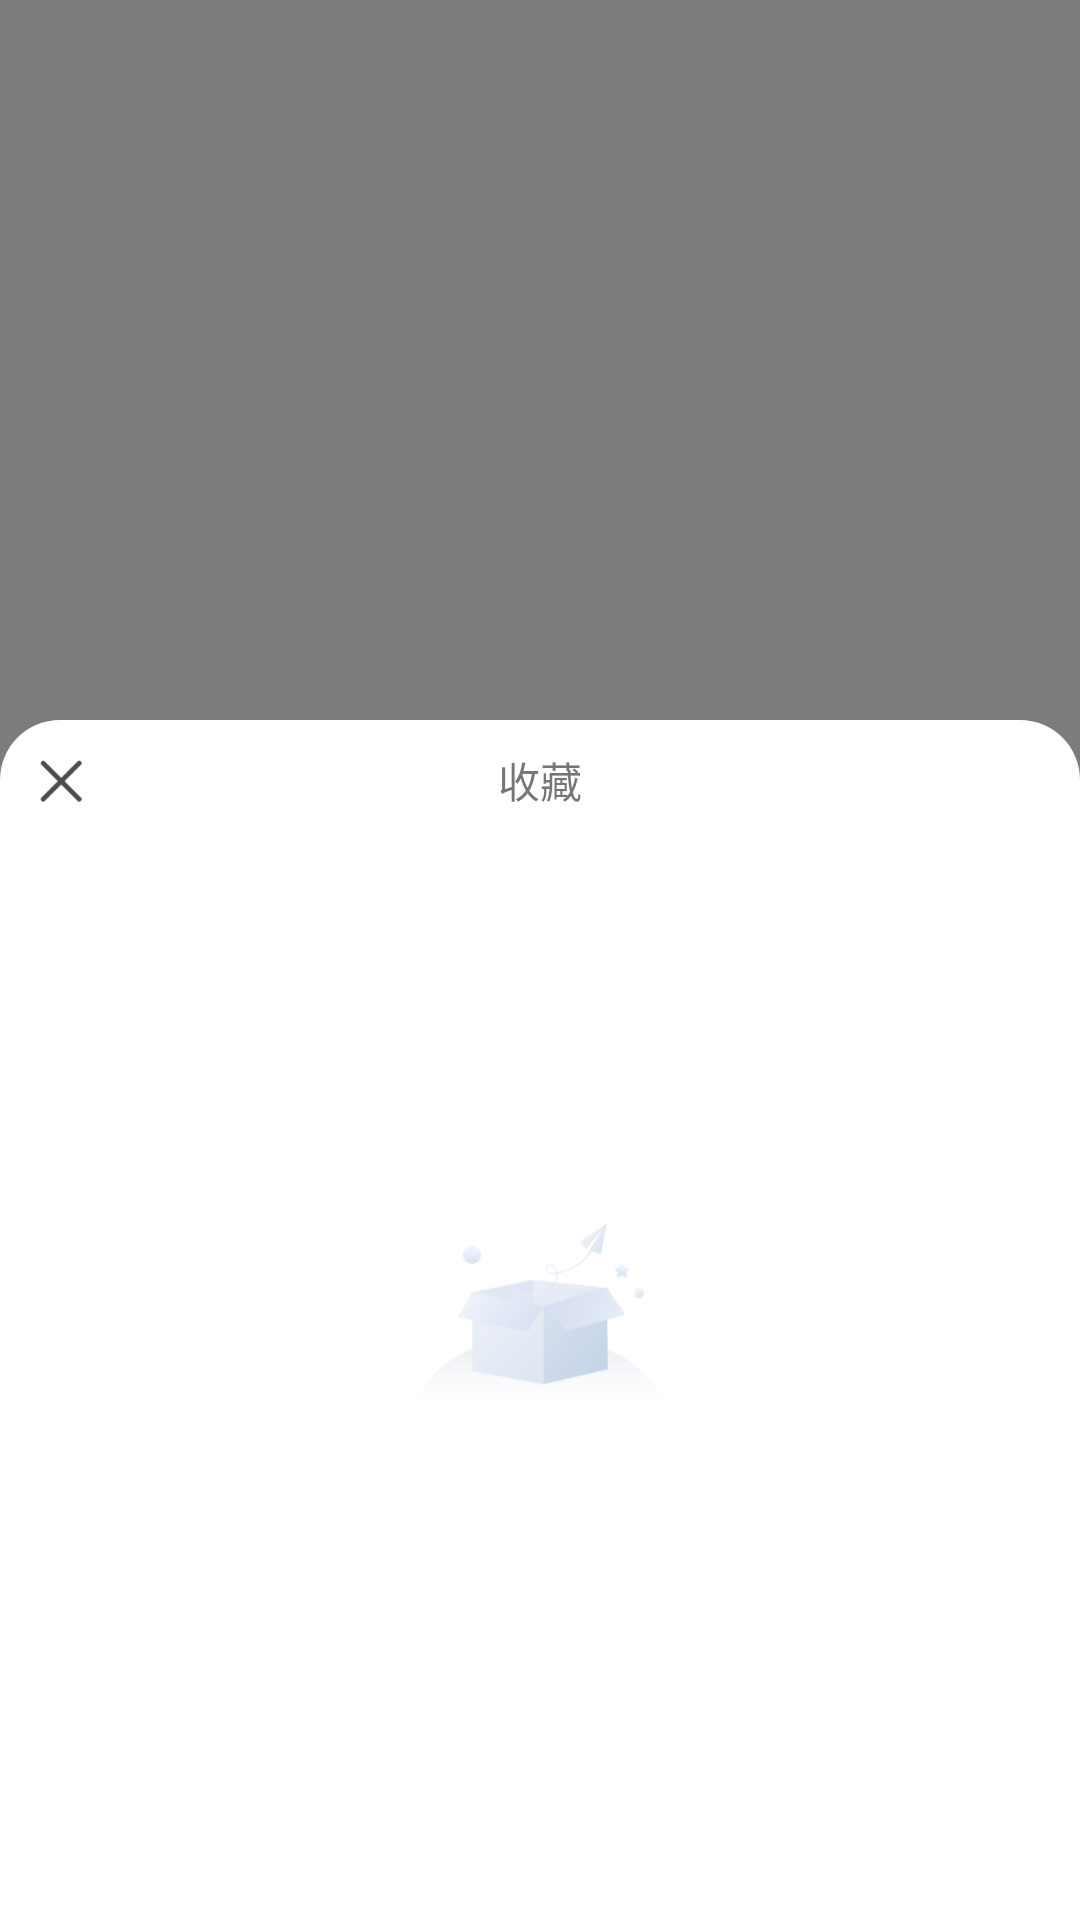

Where to tap for icons on this 1080x1920 app screen, as (x=x, y=y):
close: (x=41, y=761)
